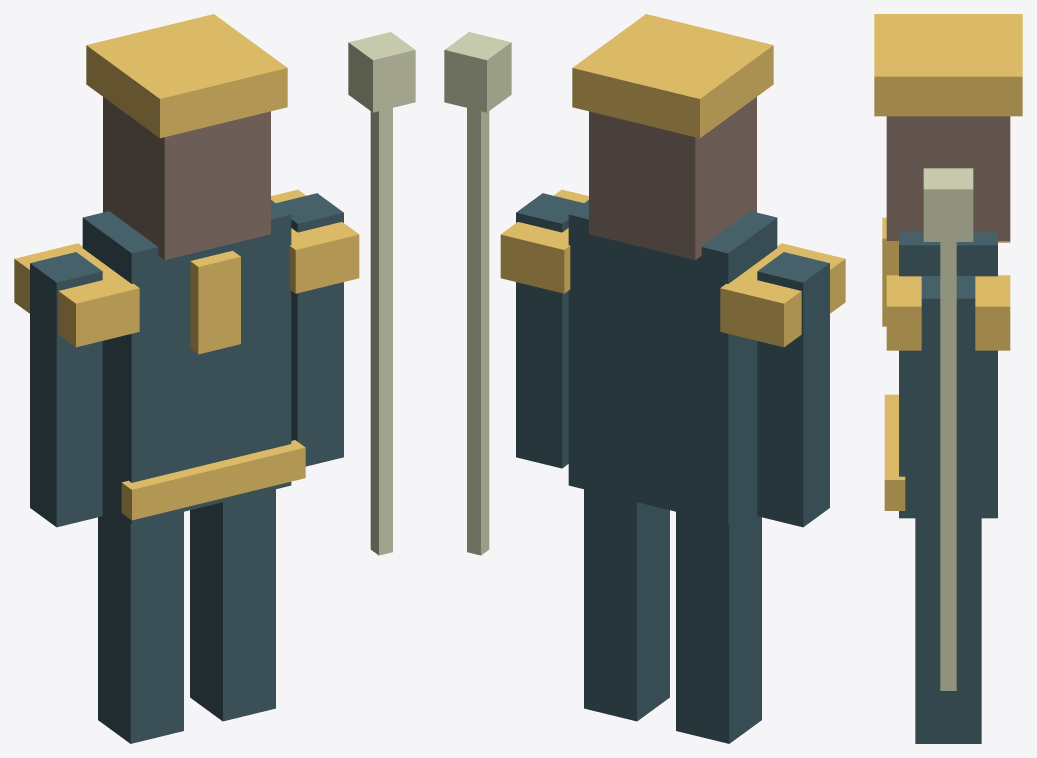
File: 04_ossa_stormhush_mechanist_from_echoing.glb
3 renders of one model, left to right at view 1: azimuth 30°, elevation 25°; view 2: azimuth 150°, elevation 25°; view 3: azimuth 270°, elevation 25°, orthographic.
Parts seen in each view (by area): view 1: Ossa Stormhush, Mechanist from Echoing; view 2: Ossa Stormhush, Mechanist from Echoing; view 3: Ossa Stormhush, Mechanist from Echoing.
Boxes of the visible parts, left/top/right/bottom form: Ossa Stormhush, Mechanist from Echoing: left=14, top=14, right=415, bottom=743; Ossa Stormhush, Mechanist from Echoing: left=444, top=14, right=845, bottom=743; Ossa Stormhush, Mechanist from Echoing: left=874, top=14, right=1022, bottom=743.
Size of the model in its own units: 0.9809 by 1.71 by 0.3479.
